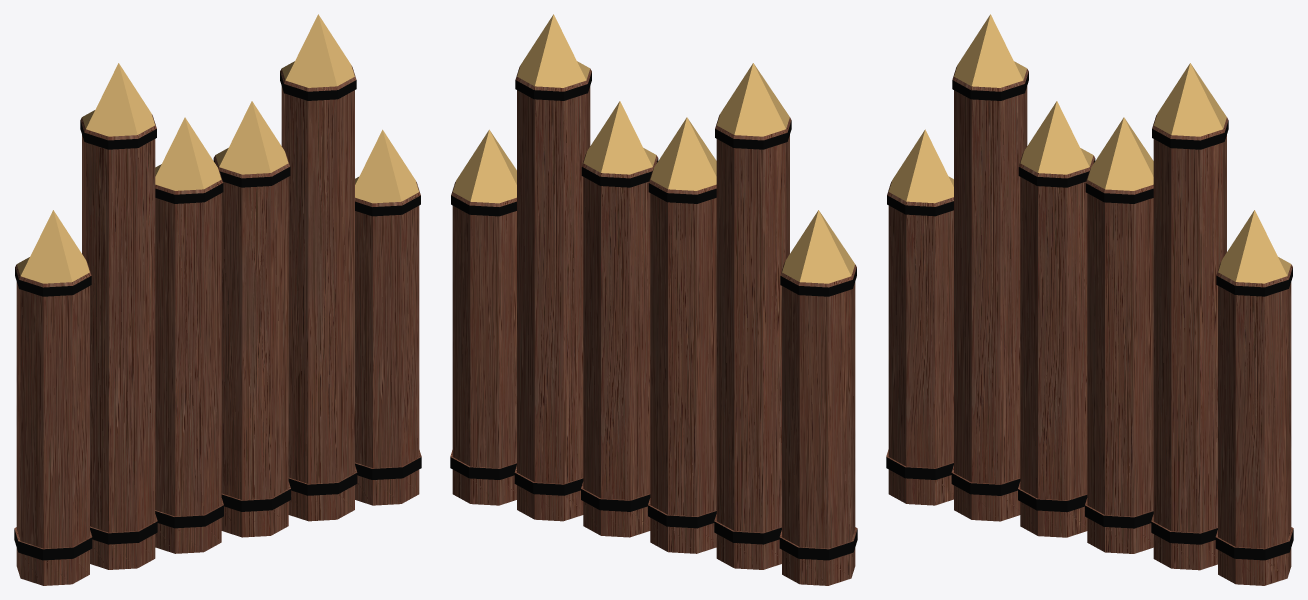
Rendered from PallisadeWood.fbx.
3 views of the same model, side by side, from view 1: azimuth 30°, elevation 25°; view 2: azimuth 150°, elevation 25°; view 3: azimuth 330°, elevation 25° (orthographic).
Parts seen in each view (by area): view 1: Cube.005; view 2: Cube.005; view 3: Cube.005.
Part boxes in pixels (x1,y1,x2,y2): Cube.005: (14, 14, 421, 585); Cube.005: (450, 14, 857, 585); Cube.005: (886, 14, 1293, 585).
Bounding box in the file's own units: 1217 × 1432 × 214.
Materials: 3 (1 with a texture image).
